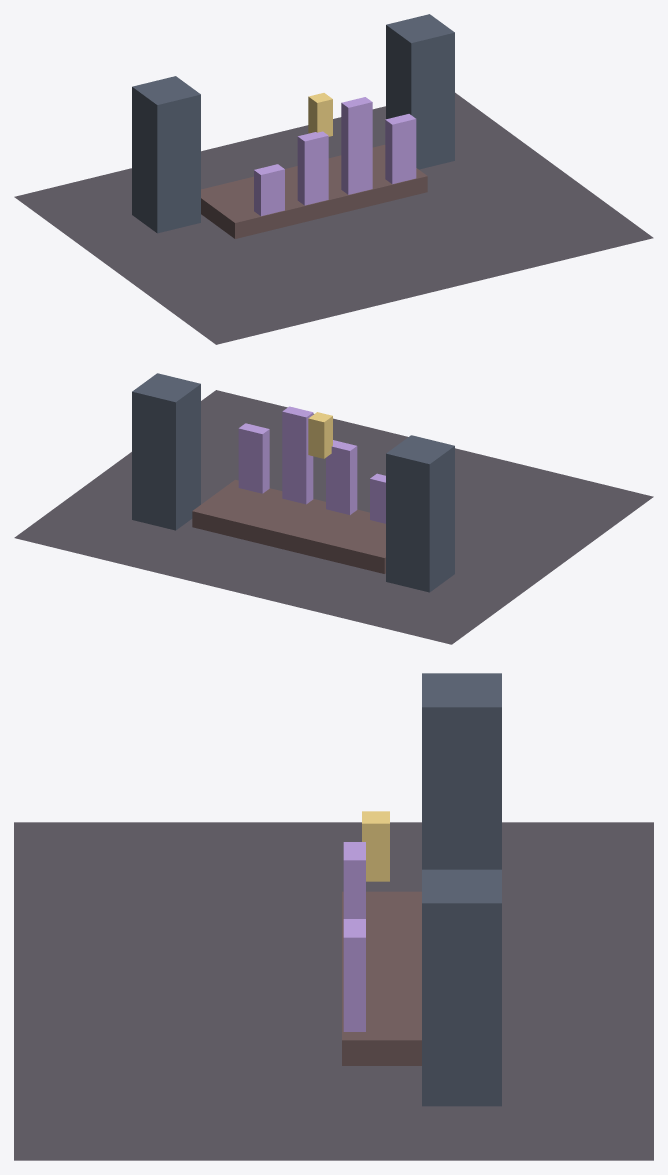
The model's file is world.glb.
3 views of the same model, one above another, from view 1: azimuth 30°, elevation 25°; view 2: azimuth 150°, elevation 25°; view 3: azimuth 270°, elevation 25° (orthographic). The views are drawn at different scales.
Parts seen in each view (by area): view 1: lastfm_opaque_mesh, lastfm_emissive_mesh; view 2: lastfm_opaque_mesh, lastfm_emissive_mesh; view 3: lastfm_opaque_mesh, lastfm_emissive_mesh.
Part boxes in pixels (bbox=[...]): lastfm_opaque_mesh: bbox=[14, 14, 653, 344]; lastfm_emissive_mesh: bbox=[254, 93, 416, 216]; lastfm_opaque_mesh: bbox=[14, 373, 653, 644]; lastfm_emissive_mesh: bbox=[238, 406, 385, 523]; lastfm_opaque_mesh: bbox=[14, 673, 653, 1160]; lastfm_emissive_mesh: bbox=[343, 811, 389, 1031].
Bounding box in the file's own units: 10 × 2.8 × 8.
